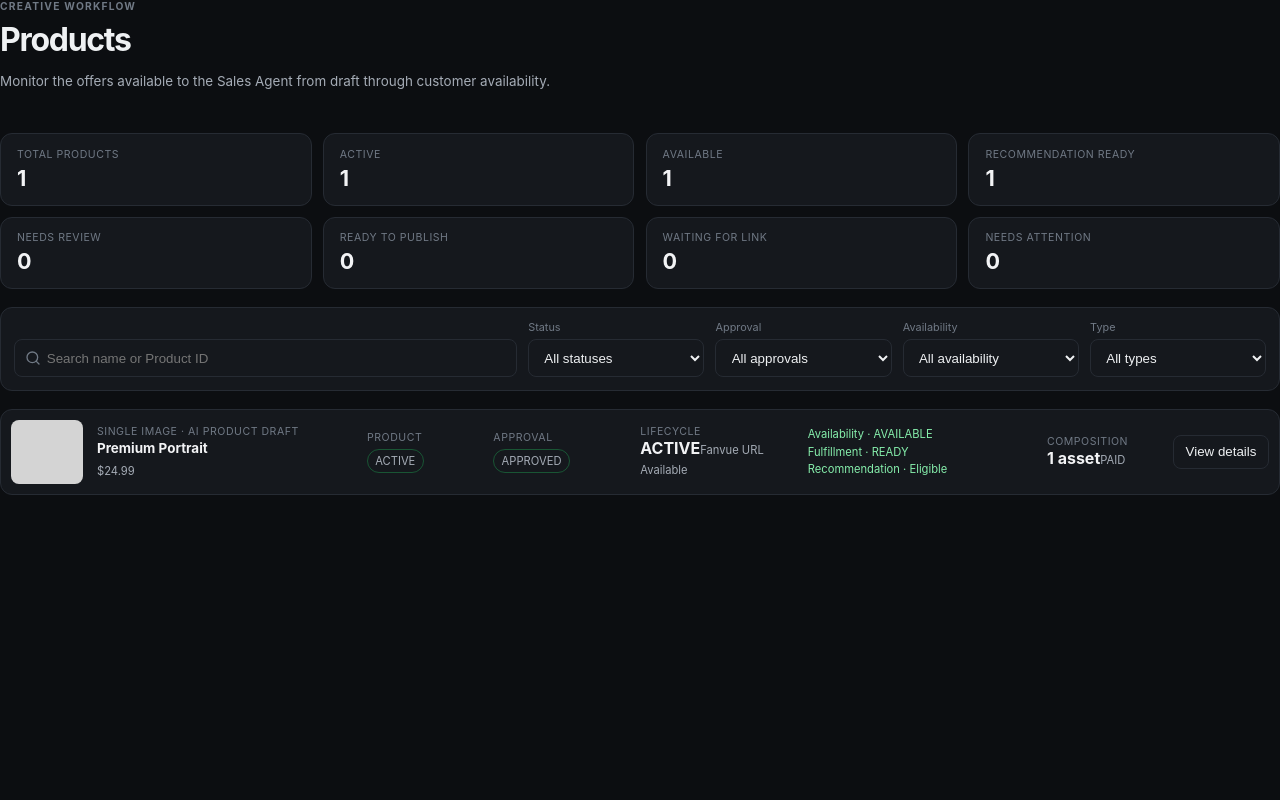
Test case: BusinessProductsPage › renders Product projections and opens the read-only drawer
Expected: the heading "Premium Portrait" is shown, [97, 440, 208, 456]
Expected: the text "Recommendation · Eligible" is shown, [808, 462, 947, 476]
Click the button "View details".
click(1221, 452)  # box [1173, 435, 1269, 469]
(page scrolled)
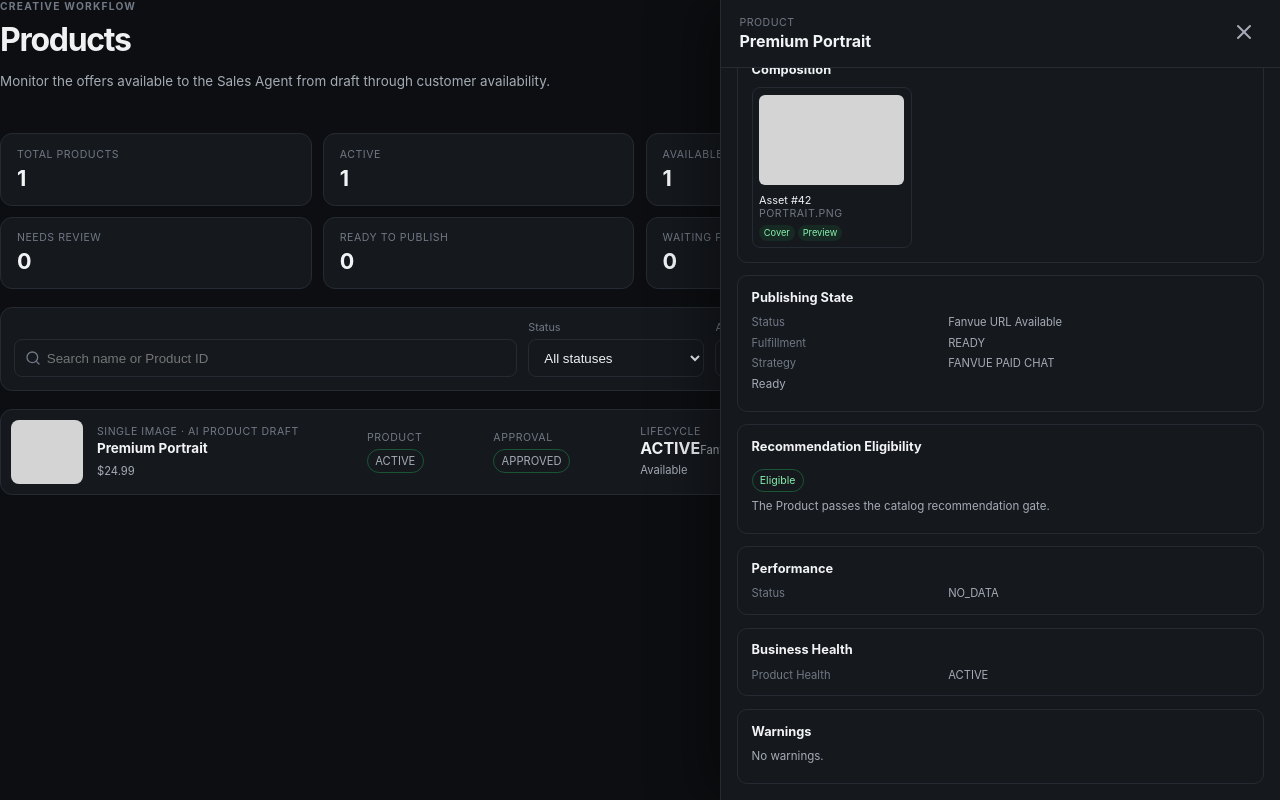
Expected: the element named "Product details" is shown, [720, 0, 1279, 799]
Expected: the heading "Business Health" is shown, [752, 642, 853, 657]
